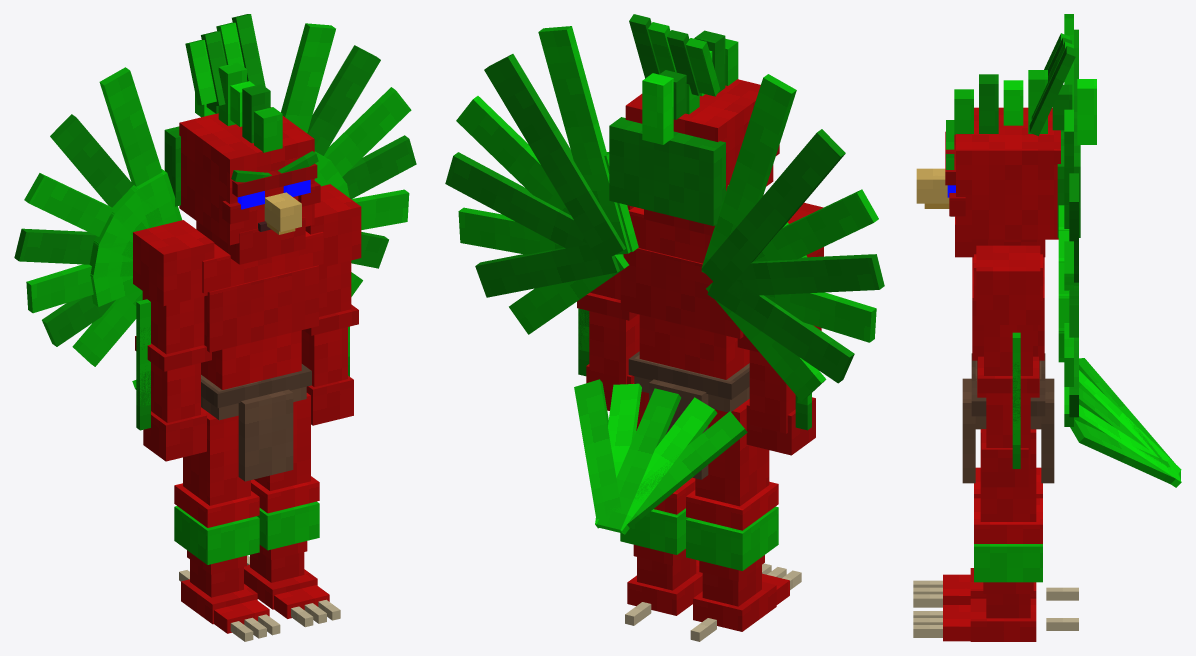
The model's file is harpy_s1_evo1.glb.
3 views of the same model, side by side, from view 1: azimuth 30°, elevation 25°; view 2: azimuth 150°, elevation 25°; view 3: azimuth 270°, elevation 25° (orthographic). The views are drawn at different scales.
Visible parts, largest first — view 1: Torso, Head, ArmR, LegR, LegL, ArmL, Root; view 2: Torso, Head, LegR, LegL, ArmR, ArmL, Root; view 3: Head, Torso, ArmL, LegL, Root, LegR.
Part boxes in pixels (left/top/right/bottom): Torso: left=14, top=23, right=416, bottom=481; Head: left=164, top=14, right=320, bottom=264; ArmR: left=133, top=220, right=214, bottom=461; LegR: left=174, top=407, right=269, bottom=633; LegL: left=244, top=393, right=329, bottom=618; ArmL: left=301, top=184, right=361, bottom=425; Root: left=179, top=555, right=340, bottom=641; Torso: left=445, top=26, right=884, bottom=534; Head: left=609, top=14, right=779, bottom=235; LegR: left=686, top=399, right=789, bottom=631; LegL: left=620, top=383, right=702, bottom=615; ArmR: left=737, top=202, right=823, bottom=455; ArmL: left=577, top=205, right=639, bottom=410; Root: left=625, top=563, right=801, bottom=641; Head: left=916, top=33, right=1096, bottom=257; Torso: left=962, top=14, right=1181, bottom=487; ArmL: left=976, top=245, right=1040, bottom=487; LegL: left=943, top=429, right=1042, bottom=641; Root: left=913, top=580, right=1078, bottom=637; LegR: left=943, top=467, right=1042, bottom=604.
Bounding box in the file's own units: 1.46 × 1.94 × 0.8178.
24 materials, 24 textured.
